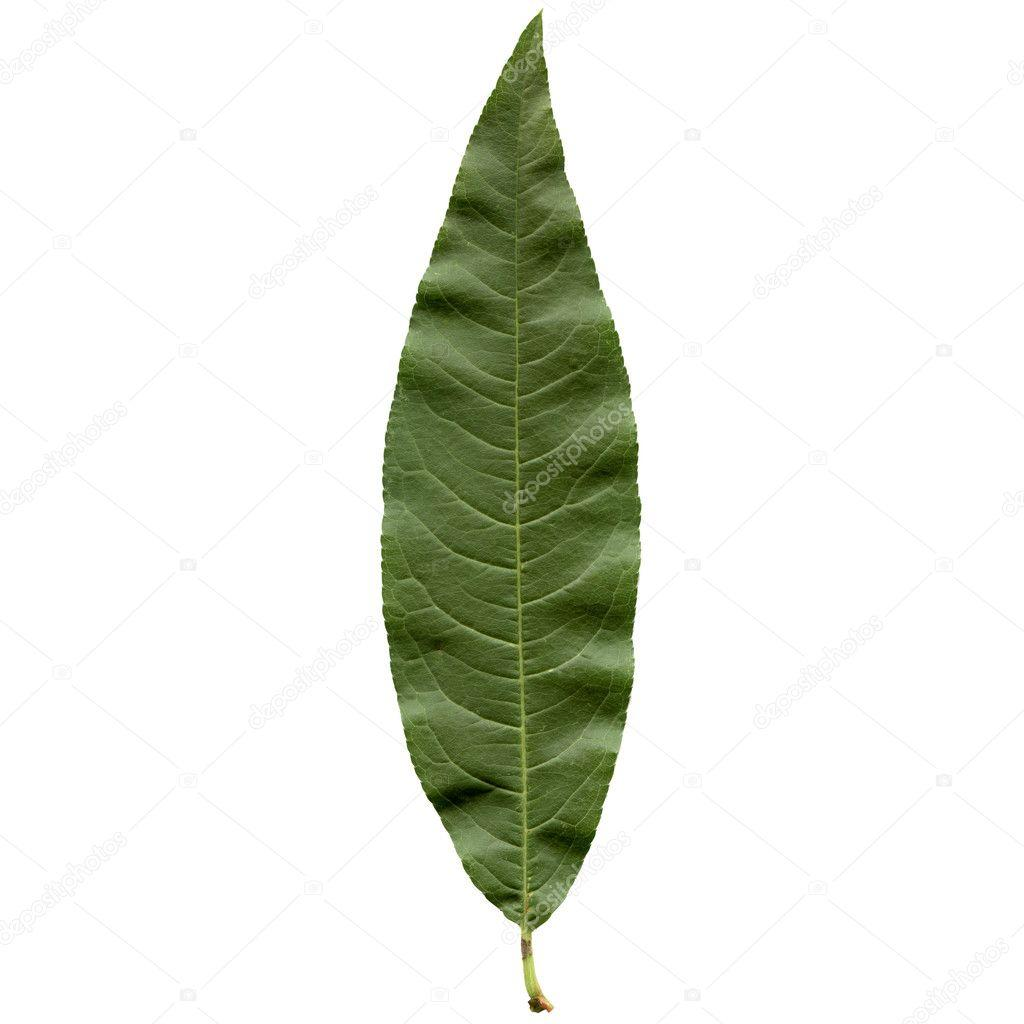Peach leaf: (372, 9, 645, 1024)
